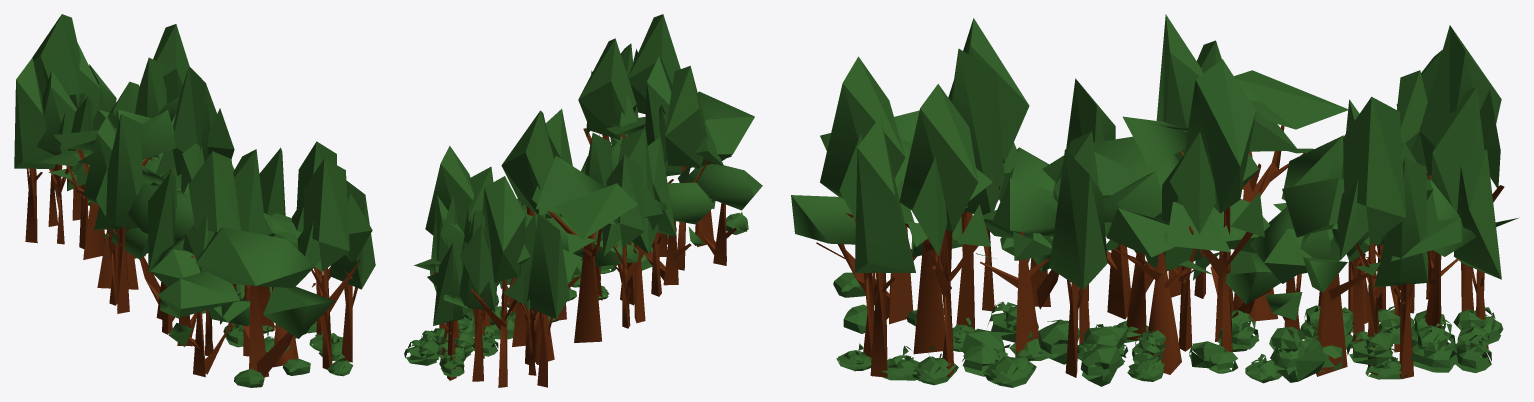
Rendered from forrest.glb.
The picture shows the model from 3 angles, left to right: view 1: azimuth 30°, elevation 25°; view 2: azimuth 150°, elevation 25°; view 3: azimuth 270°, elevation 25°; orthographic projection. The views are drawn at different scales.
Parts seen in each view (by area): view 1: forrest; view 2: forrest; view 3: forrest.
Part boxes in pixels (<box>): forrest: <box>14,14,375,387</box>; forrest: <box>404,14,762,387</box>; forrest: <box>791,14,1519,387</box>.
Bounding box in the file's own units: 9.27 × 9.78 × 21.38.
1 material, 1 textured.
